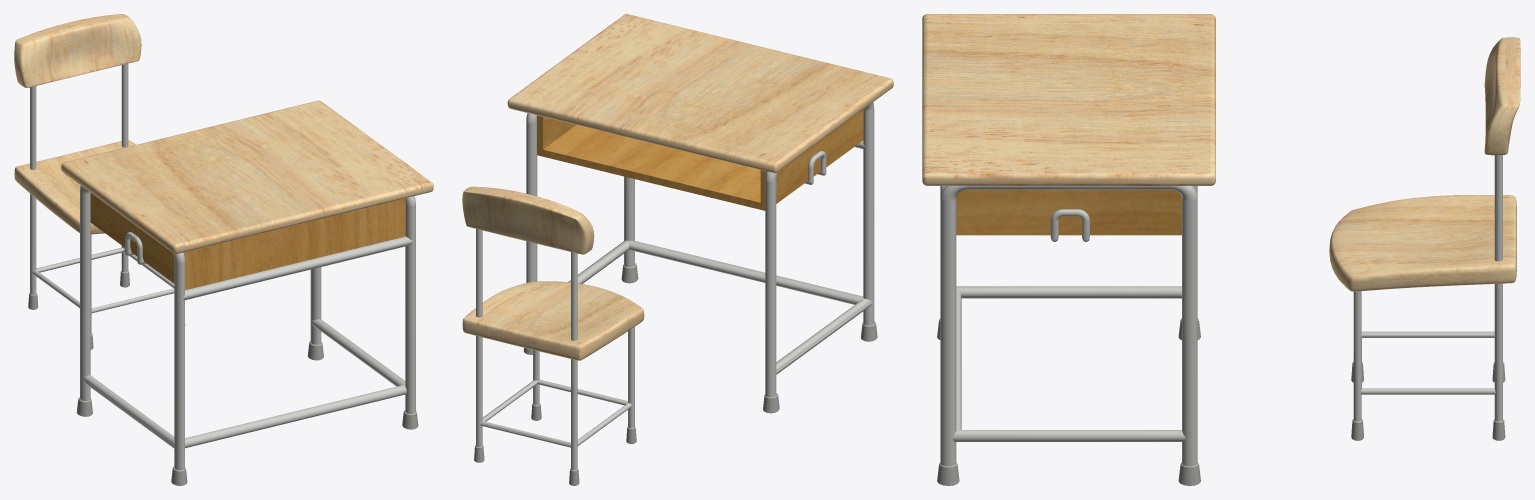
The model's file is zhuoyi.fbx.
3 views of the same model, side by side, from view 1: azimuth 30°, elevation 25°; view 2: azimuth 150°, elevation 25°; view 3: azimuth 270°, elevation 25° (orthographic). The views are drawn at different scales.
Parts seen in each view (by area): view 1: zhuoyi1:Rectangle519; view 2: zhuoyi1:Rectangle519; view 3: zhuoyi1:Rectangle519.
Boxes of the visible parts, x1=… form: zhuoyi1:Rectangle519: x1=14, y1=14, x2=433, y2=485; zhuoyi1:Rectangle519: x1=462, y1=14, x2=893, y2=485; zhuoyi1:Rectangle519: x1=922, y1=14, x2=1520, y2=485.
Bounding box in the file's own units: 59.1 × 58.42 × 92.03.
